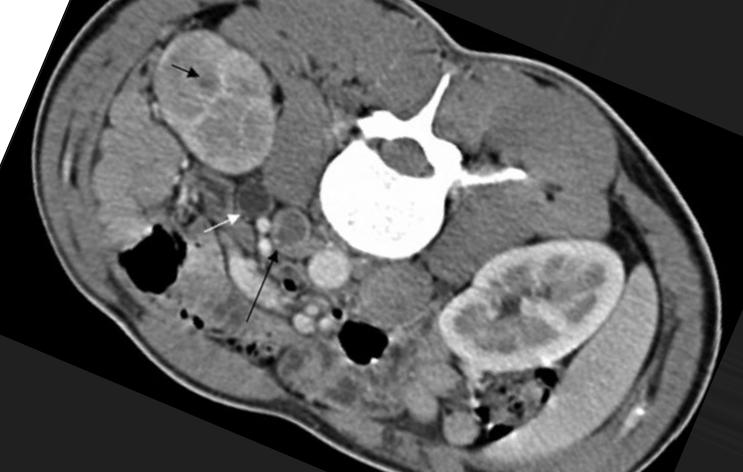anomaly: (270, 210, 315, 253)
